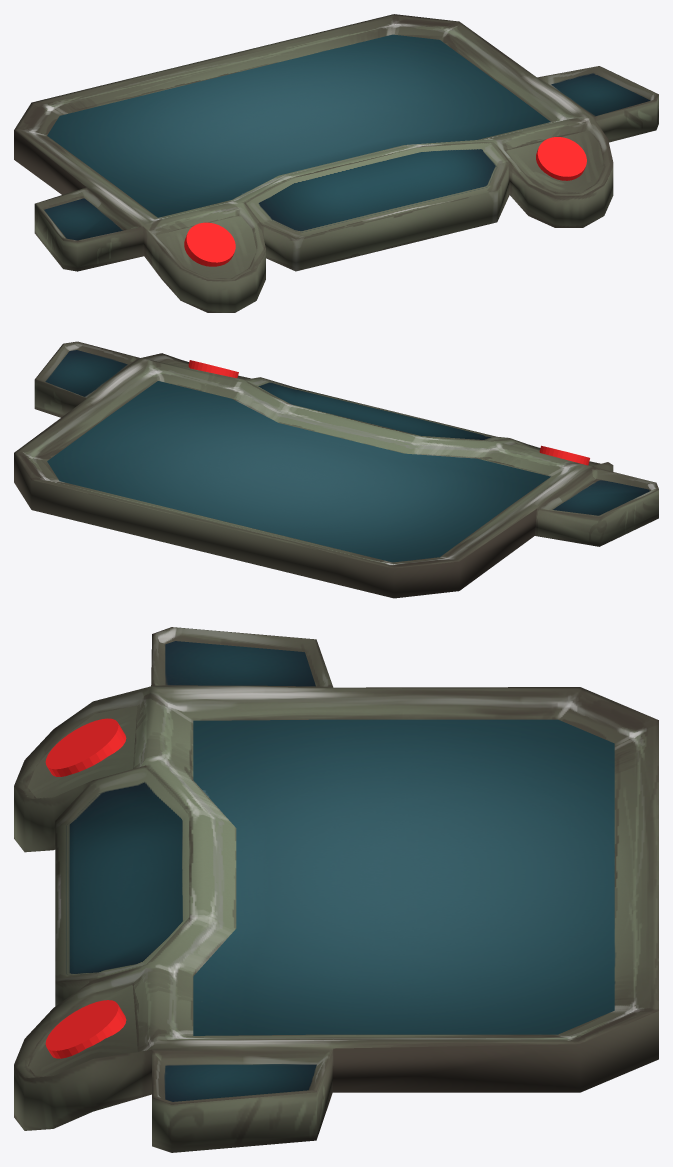
File: UIjam_3Dgameboard.glb
3 views of the same model, one above another, from view 1: azimuth 30°, elevation 25°; view 2: azimuth 150°, elevation 25°; view 3: azimuth 270°, elevation 25° (orthographic). The views are drawn at different scales.
Parts seen in each view (by area): view 1: Cube; view 2: Cube; view 3: Cube.
Boxes of the visible parts, x1=… form: Cube: x1=14, y1=14, x2=658, y2=312; Cube: x1=14, y1=341, x2=658, y2=598; Cube: x1=14, y1=627, x2=658, y2=1152.
Bounding box in the file's own units: 4.72 × 0.5217 × 2.69.
Materials: 2 (2 with a texture image).
